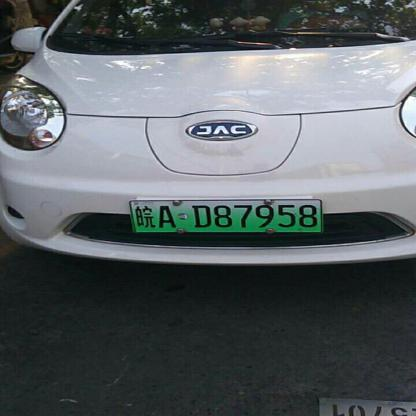lp: (128, 198, 324, 232)
